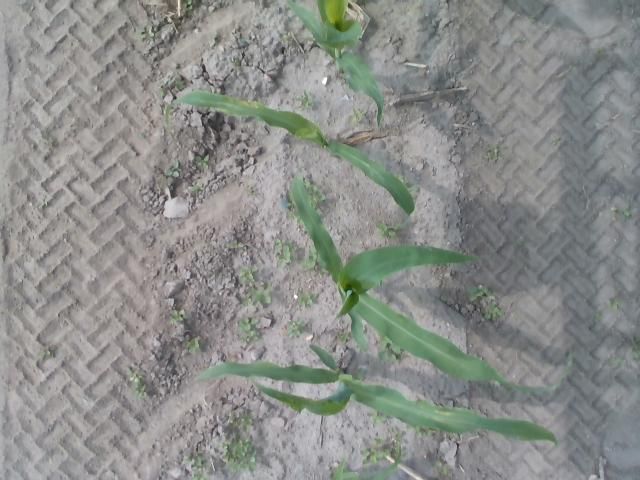Maize: (291, 170, 574, 394), (189, 344, 559, 446), (165, 91, 415, 230), (286, 0, 384, 128), (332, 443, 401, 480)
Weeds: (218, 432, 262, 476), (238, 263, 274, 308), (359, 438, 394, 472), (236, 316, 263, 348), (183, 451, 212, 480), (373, 216, 409, 238), (274, 239, 299, 270), (228, 408, 255, 432), (129, 366, 149, 398), (378, 336, 402, 360), (300, 244, 320, 272), (280, 316, 306, 337), (306, 181, 326, 208), (468, 284, 496, 302), (297, 289, 319, 311), (296, 89, 316, 112), (39, 131, 54, 159), (482, 301, 504, 320), (610, 201, 630, 221), (403, 424, 436, 436), (184, 336, 203, 355), (194, 154, 214, 172), (366, 410, 388, 426), (36, 345, 58, 360), (286, 201, 300, 224), (483, 144, 499, 164), (347, 106, 366, 122), (165, 161, 182, 178), (137, 25, 155, 41), (629, 336, 640, 361), (435, 459, 450, 477), (170, 308, 186, 324), (388, 426, 403, 443), (606, 298, 622, 312), (405, 178, 420, 192), (606, 356, 626, 366), (180, 0, 196, 12), (190, 182, 205, 194), (228, 240, 247, 249), (340, 332, 354, 344), (174, 77, 186, 91), (210, 33, 220, 48), (228, 57, 240, 68), (245, 185, 258, 195), (282, 34, 294, 44), (39, 194, 48, 207), (158, 85, 166, 99), (164, 74, 174, 85), (596, 46, 606, 56), (515, 238, 525, 247), (594, 311, 602, 322), (528, 14, 536, 23), (397, 171, 404, 180), (550, 137, 558, 144), (518, 37, 526, 43)
